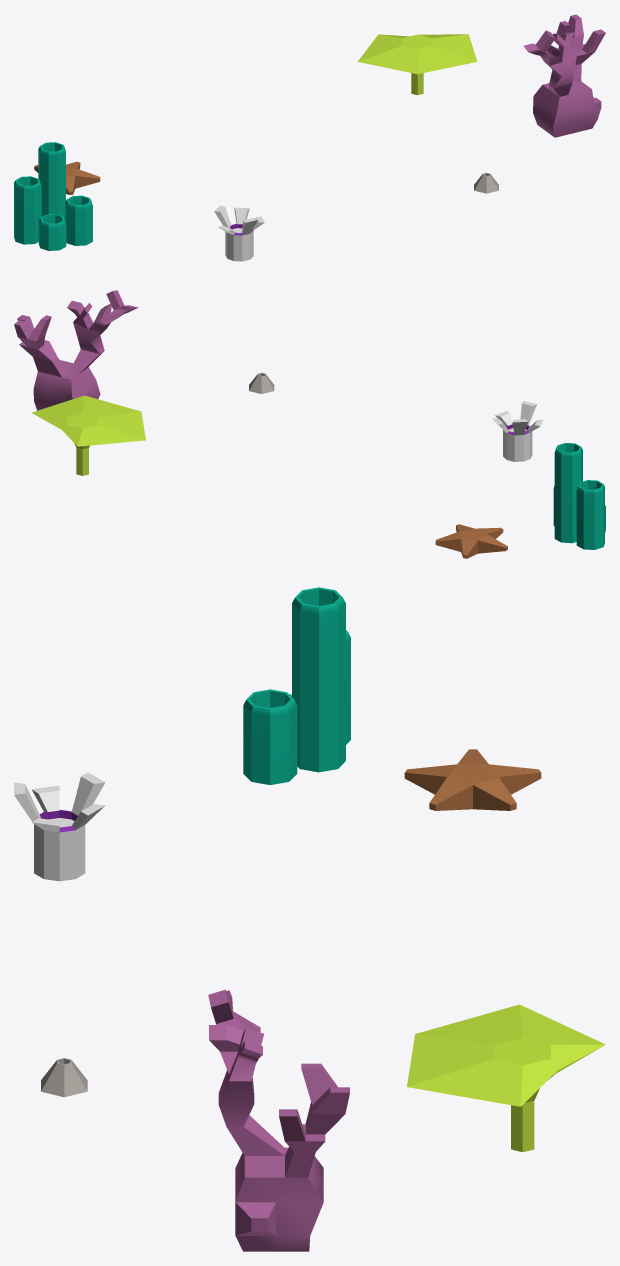
File: sealife.fbx
3 renders of one model, top to bottom at view 1: azimuth 30°, elevation 25°; view 2: azimuth 150°, elevation 25°; view 3: azimuth 270°, elevation 25°, orthographic. The views are drawn at different scales.
Parts seen in each view (by area): view 1: T_coral, mushcoral, tubecoral2, tubecoral3, anemonie, tubecoral1, tubecoral, starfish, barnicle; view 2: T_coral, mushcoral, tubecoral2, tubecoral3, anemonie, starfish, barnicle; view 3: T_coral, mushcoral, tubecoral2, anemonie, starfish, tubecoral1, barnicle.
Boxes of the visible parts, x1,y1,x2,y2 form: T_coral: [523, 14, 605, 137]; mushcoral: [358, 34, 477, 95]; tubecoral2: [38, 142, 65, 219]; tubecoral3: [14, 176, 41, 244]; anemonie: [214, 205, 264, 261]; tubecoral1: [65, 195, 92, 245]; tubecoral: [38, 214, 66, 250]; starfish: [34, 161, 100, 194]; barnicle: [474, 173, 498, 193]; T_coral: [14, 290, 138, 410]; mushcoral: [31, 395, 145, 475]; tubecoral2: [554, 443, 582, 543]; tubecoral3: [576, 480, 604, 549]; anemonie: [492, 401, 543, 461]; starfish: [435, 524, 507, 558]; barnicle: [249, 373, 274, 393]; T_coral: [208, 989, 349, 1251]; mushcoral: [407, 1004, 605, 1152]; tubecoral2: [292, 587, 345, 772]; anemonie: [14, 772, 105, 881]; starfish: [404, 749, 541, 810]; tubecoral1: [243, 689, 297, 784]; barnicle: [41, 1058, 87, 1097].
Bounding box in the file's own units: 46.71 × 8.81 × 21.97.
